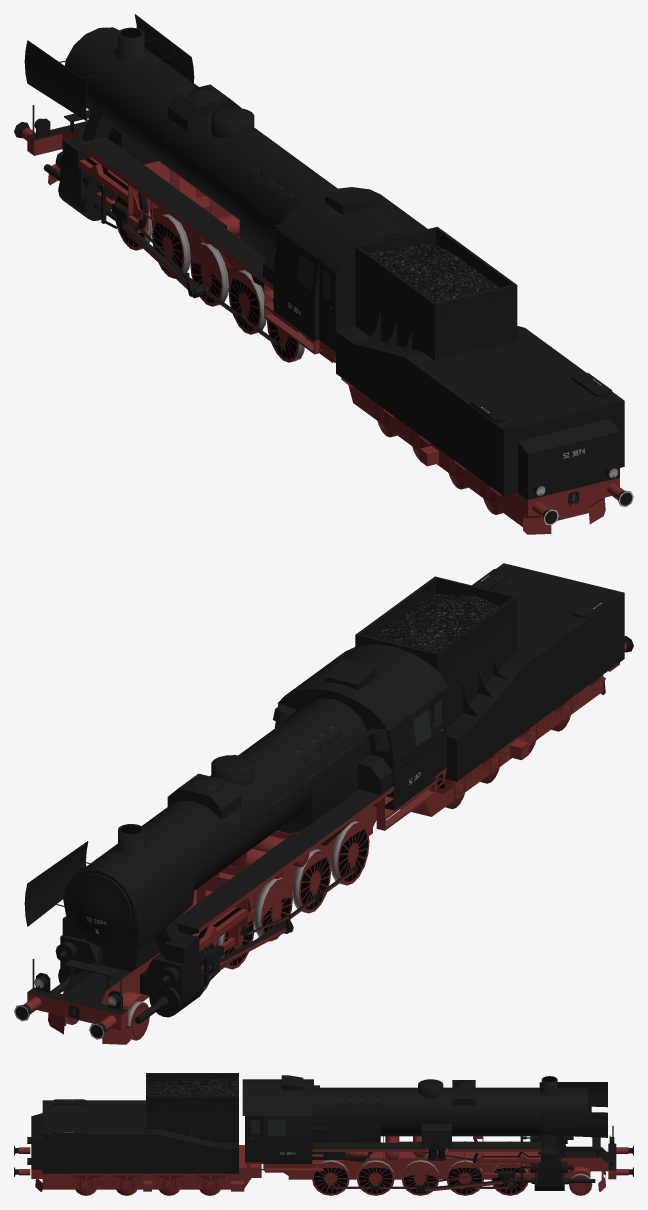
Rendered from BR52_UPLOAD.fbx.
3 renders of one model, top to bottom at view 1: azimuth 30°, elevation 25°; view 2: azimuth 150°, elevation 25°; view 3: azimuth 270°, elevation 25°, orthographic. The views are drawn at different scales.
Parts seen in each view (by area): view 1: BR52, Tender; view 2: BR52, Tender; view 3: BR52, Tender.
Boxes of the visible parts, x1,y1,x2,y2 form: BR52: (14, 14, 427, 362); Tender: (336, 226, 633, 534); BR52: (14, 644, 448, 1044); Tender: (355, 563, 633, 816); BR52: (242, 1075, 633, 1195); Tender: (14, 1073, 261, 1195).
Size of the model in its own units: 3.02 by 4.33 by 22.84.
